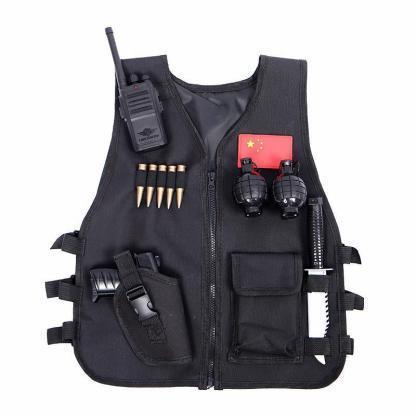Grenade: (272, 158, 309, 222), (232, 157, 269, 218)
Knife: (304, 196, 335, 365)
Pistol: (90, 252, 194, 371)
